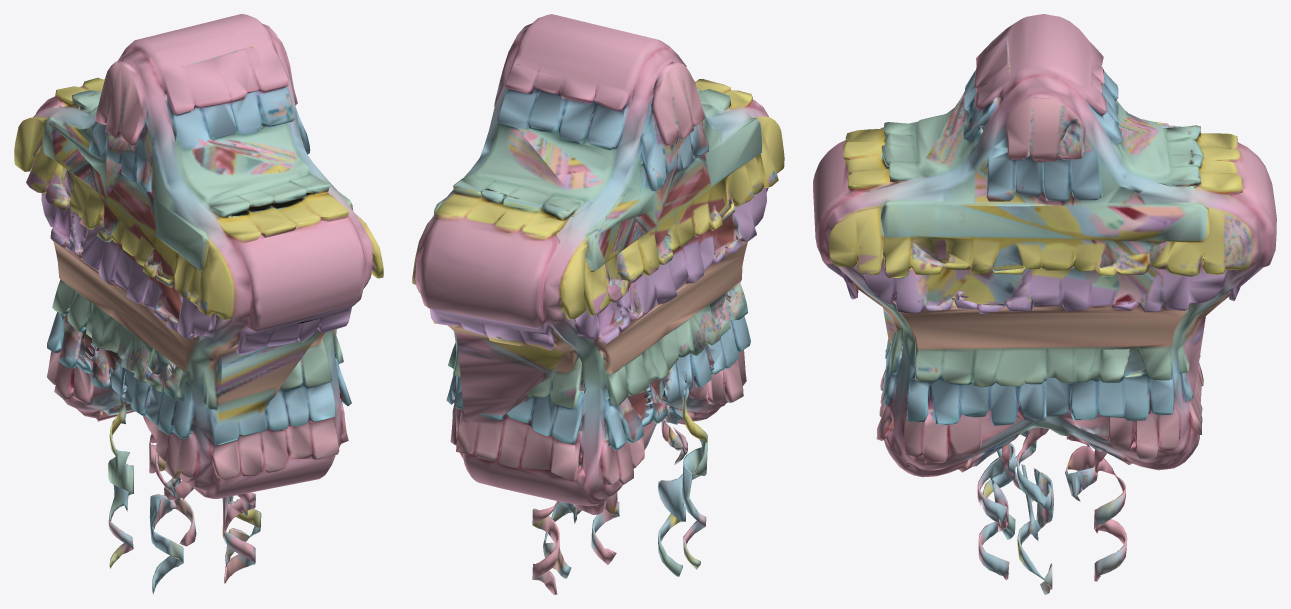
3 views of the same model, side by side, from view 1: azimuth 30°, elevation 25°; view 2: azimuth 150°, elevation 25°; view 3: azimuth 270°, elevation 25° (orthographic). The views are drawn at different scales.
Visible parts, largest first — view 1: repaired; view 2: repaired; view 3: repaired.
Boxes of the visible parts, bbox=[...] form: repaired: bbox=[14, 14, 383, 594]; repaired: bbox=[412, 14, 784, 594]; repaired: bbox=[813, 14, 1276, 594].
Size of the model in its own units: 0.3589 by 0.9981 by 0.7739.
1 material, 1 textured.
